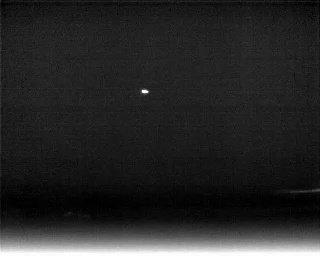AIRPLANE: (139, 86, 151, 97)
